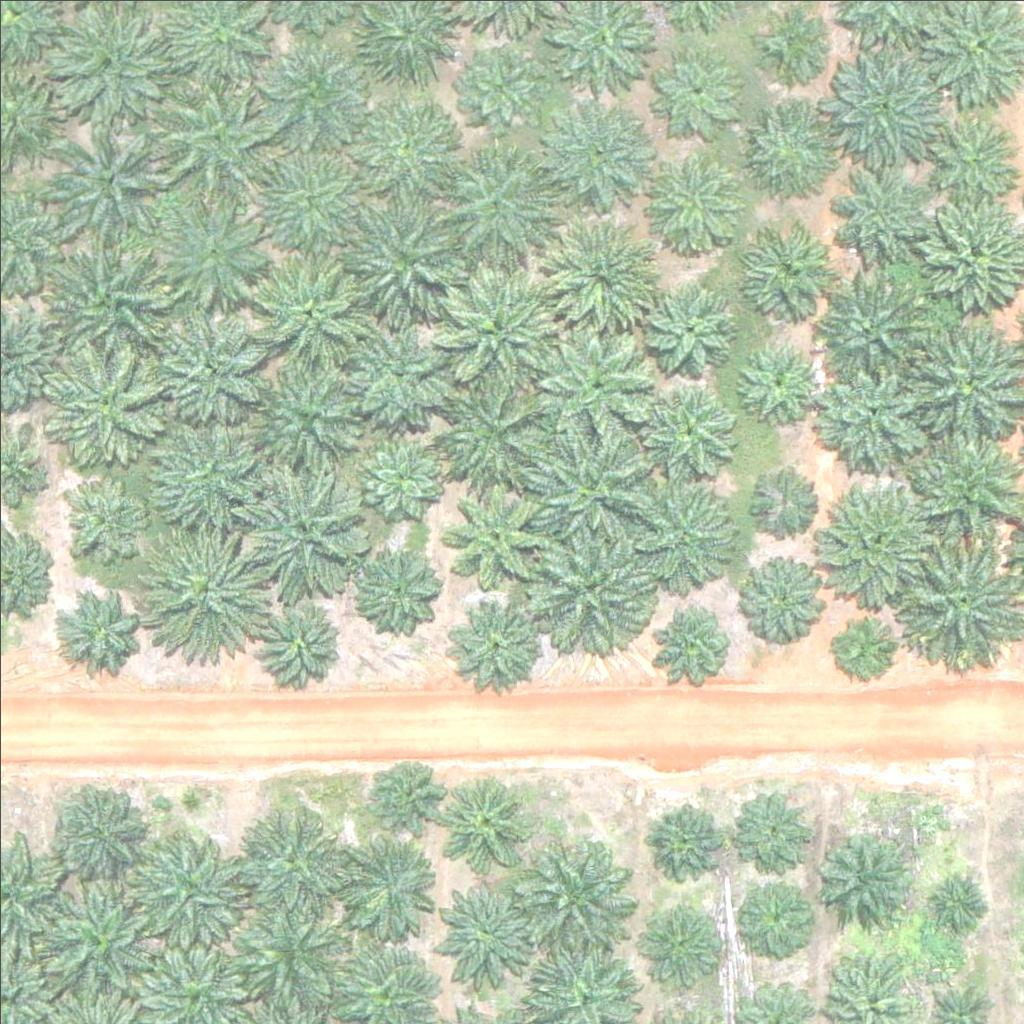Kelapa_Sawit: (49, 340, 174, 466), (53, 232, 178, 358), (143, 523, 268, 649), (156, 65, 281, 191), (236, 465, 361, 591), (428, 264, 553, 390), (529, 524, 654, 650), (525, 431, 650, 556), (547, 214, 660, 328), (811, 486, 924, 600), (151, 414, 264, 527), (252, 137, 365, 250), (249, 253, 362, 366), (351, 206, 464, 319), (437, 144, 550, 257), (536, 330, 649, 443), (622, 482, 735, 595), (829, 52, 942, 165), (908, 424, 1021, 537), (234, 798, 347, 911), (232, 901, 345, 1014), (520, 845, 633, 958), (53, 116, 165, 229), (149, 193, 261, 306), (256, 359, 368, 472), (353, 90, 465, 203), (436, 377, 548, 490), (546, 92, 658, 205), (812, 272, 924, 385), (817, 359, 929, 472), (42, 876, 154, 989), (133, 830, 245, 943), (429, 869, 541, 982), (163, 317, 263, 418), (262, 39, 362, 140), (348, 323, 448, 424), (441, 480, 541, 581), (443, 591, 543, 692), (826, 177, 926, 278), (40, 787, 140, 888), (337, 839, 437, 940), (817, 826, 917, 927), (737, 216, 837, 316), (739, 549, 827, 638), (648, 392, 736, 480), (738, 338, 826, 426), (445, 782, 533, 870), (648, 596, 735, 684), (646, 162, 733, 250), (647, 288, 734, 376), (745, 107, 832, 195), (641, 901, 728, 989), (750, 457, 825, 533), (68, 586, 143, 662), (69, 478, 144, 554), (261, 599, 336, 675), (360, 551, 435, 627), (362, 434, 437, 510), (655, 48, 730, 124), (645, 797, 720, 873), (734, 793, 809, 869), (461, 59, 536, 134), (749, 883, 812, 946), (925, 865, 988, 928), (828, 618, 891, 681), (760, 13, 823, 76), (375, 766, 438, 829)
